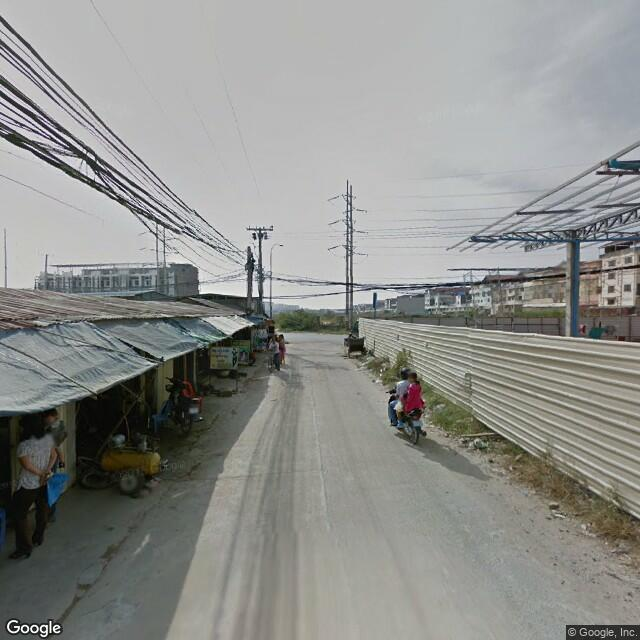litter: (463, 437, 493, 458), (547, 507, 574, 527)
